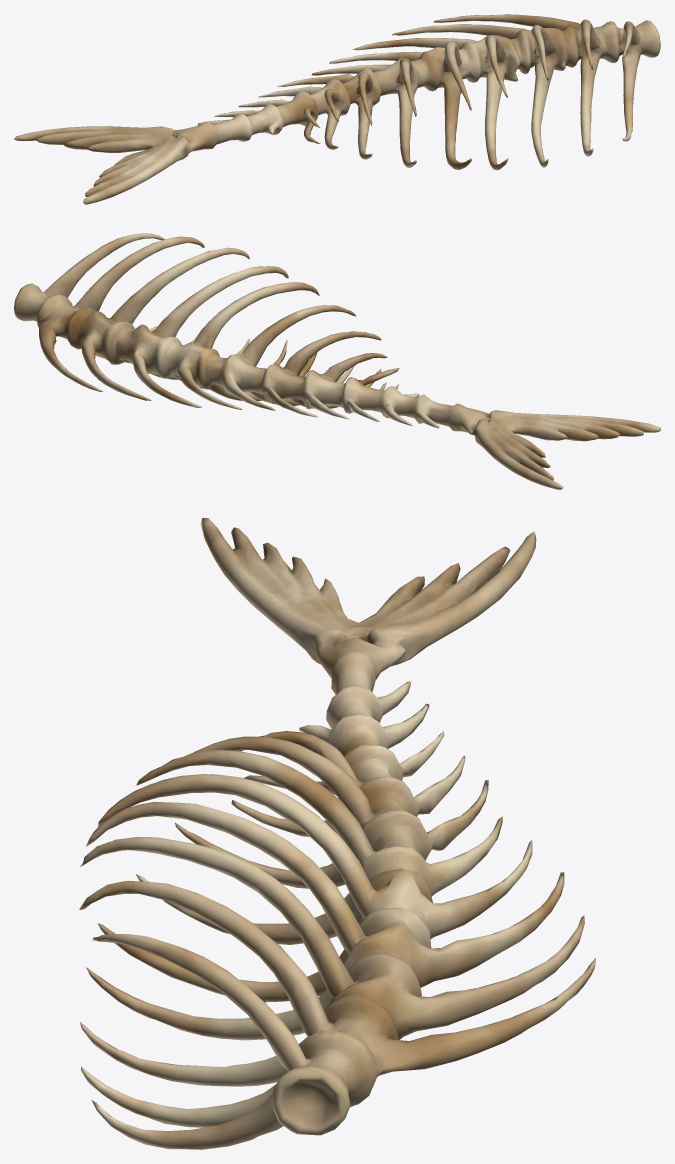
Rendered from bone_spine_m.glb.
3 views of the same model, one above another, from view 1: azimuth 30°, elevation 25°; view 2: azimuth 150°, elevation 25°; view 3: azimuth 270°, elevation 25° (orthographic). The views are drawn at different scales.
Parts seen in each view (by area): view 1: bone_spine_m; view 2: bone_spine_m; view 3: bone_spine_m.
Part boxes in pixels (x1,y1,x2,y2): bone_spine_m: (14, 14, 660, 204); bone_spine_m: (14, 233, 660, 489); bone_spine_m: (79, 518, 595, 1149).
Bounding box in the file's own units: 0.3 × 0.0575 × 0.1123.
1 material, 1 textured.
